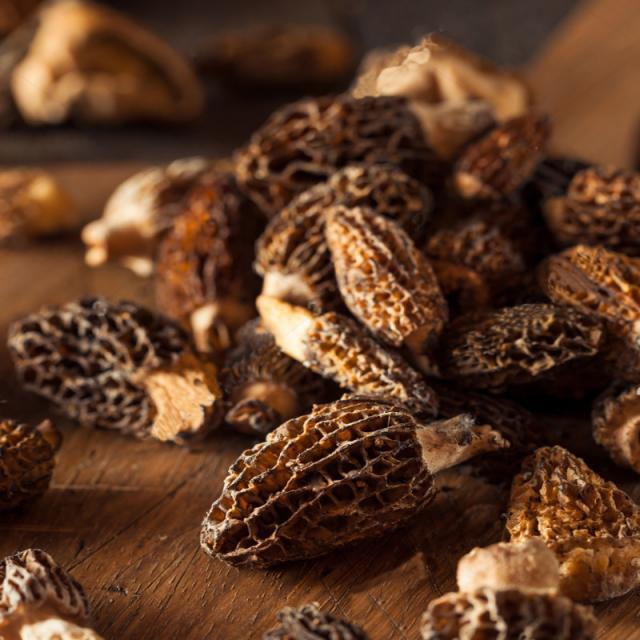Morchella esculenta: (202, 395, 509, 564), (9, 299, 211, 436), (467, 444, 640, 601), (258, 294, 432, 407), (331, 207, 438, 340), (451, 304, 619, 385)
